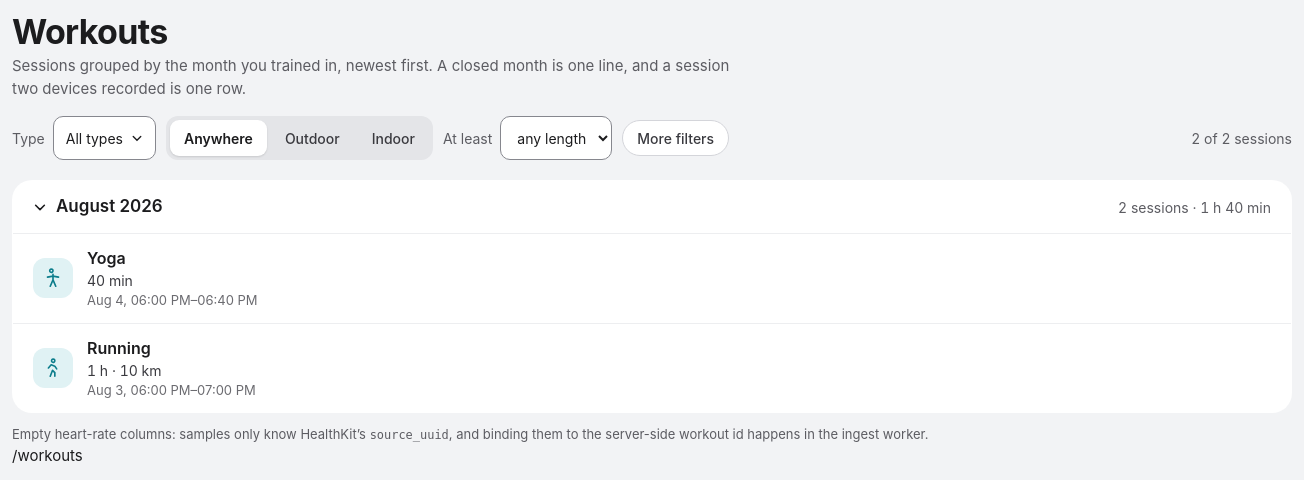
Scenario: the filter › narrows the list and says how much of it is left
Click the button with aria-label "type: all types" at (104, 138), box [53,116,156,160]
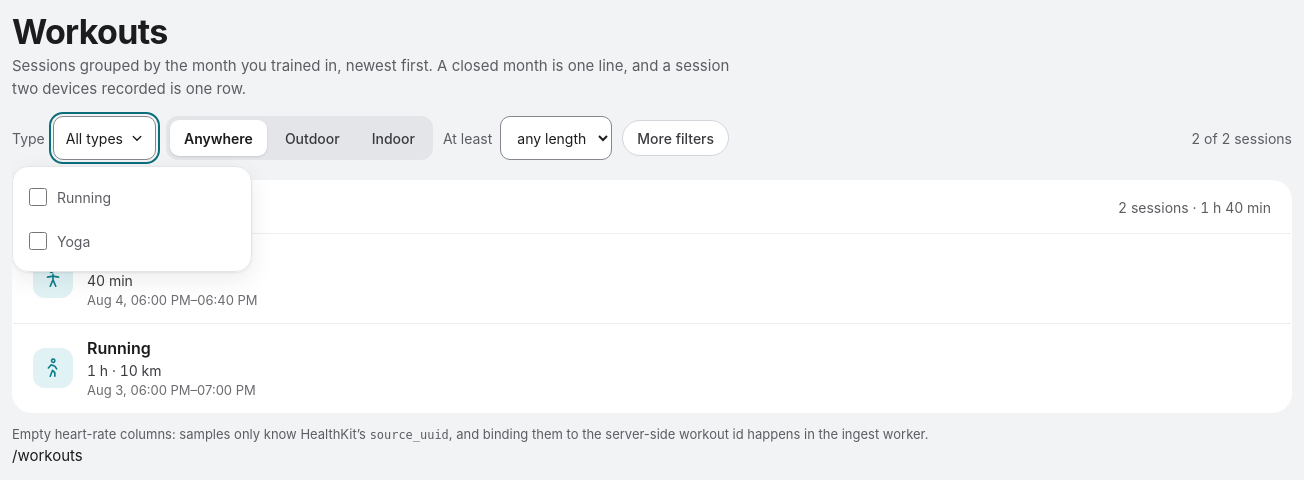
Click the checkbox labelled "Yoga" at (38, 241), box [29,232,47,250]
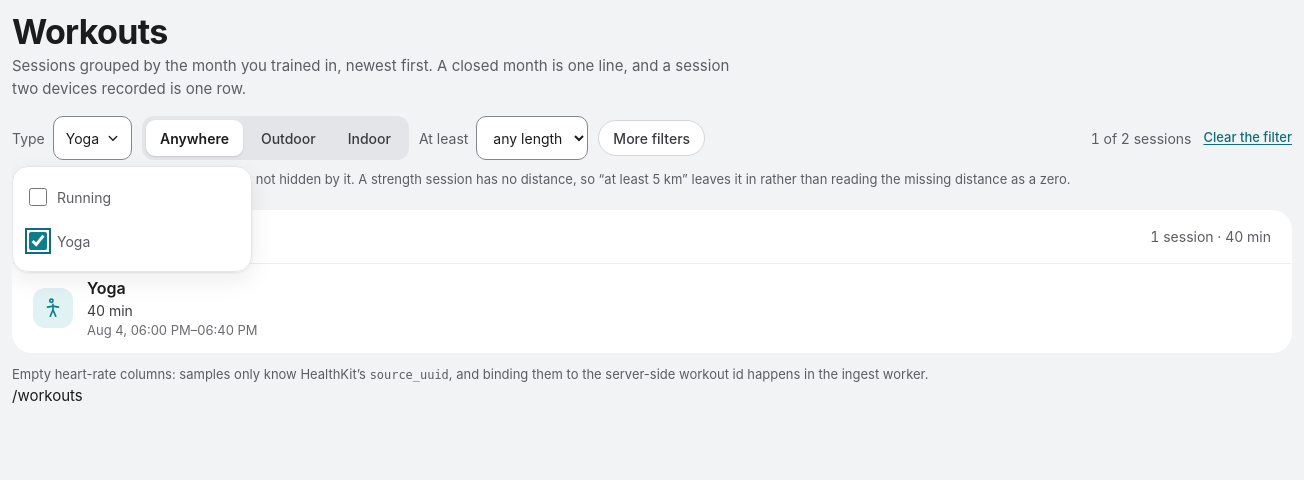
Expected: the 2nd text "Yoga" is shown, [87,278,126,298]
Now the text "1 of 2 sessions" is shown, box [1091,128,1192,149]
